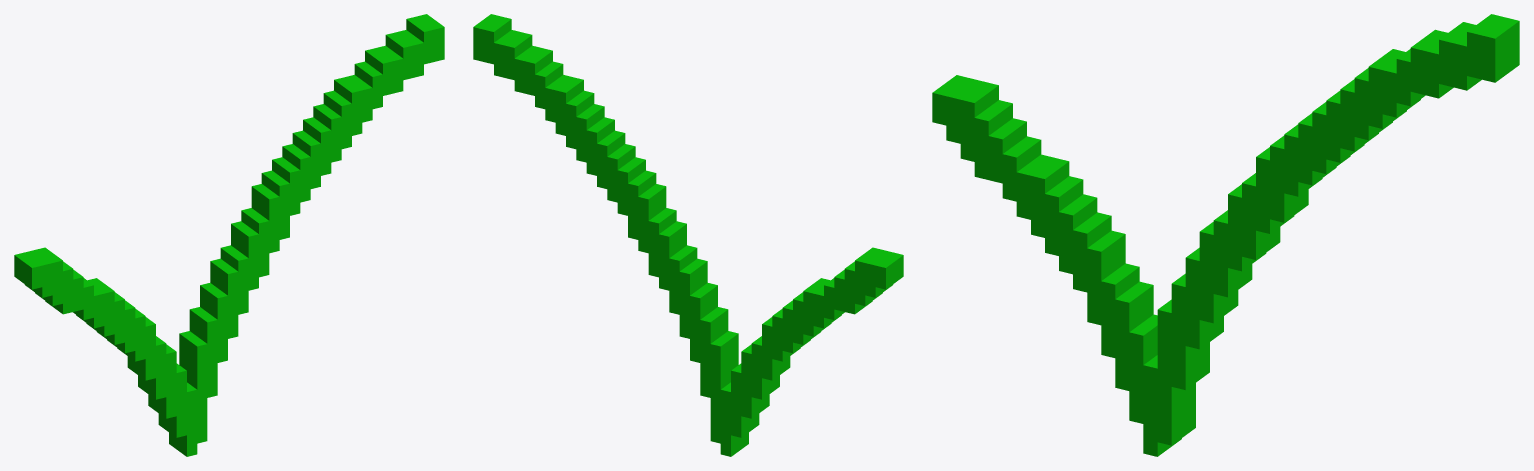
File: checkmark.obj
The picture shows the model from 3 angles, left to right: view 1: azimuth 30°, elevation 25°; view 2: azimuth 150°, elevation 25°; view 3: azimuth 330°, elevation 25°; orthographic projection. The views are drawn at different scales.
Bounding box in the file's own units: 4 × 3.4 × 0.3.
